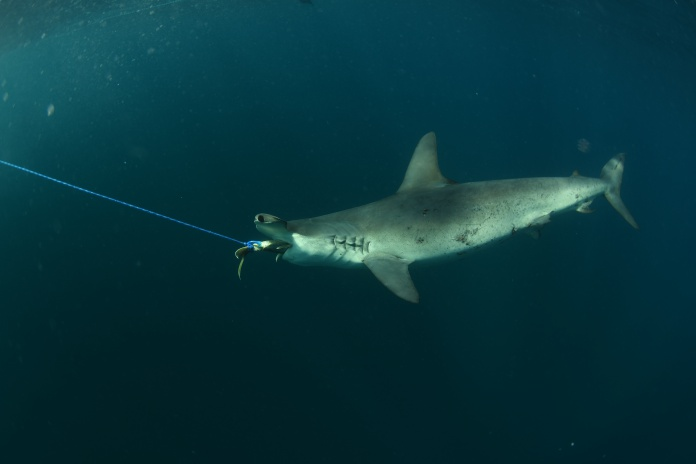Hammer: (239, 120, 674, 316)
